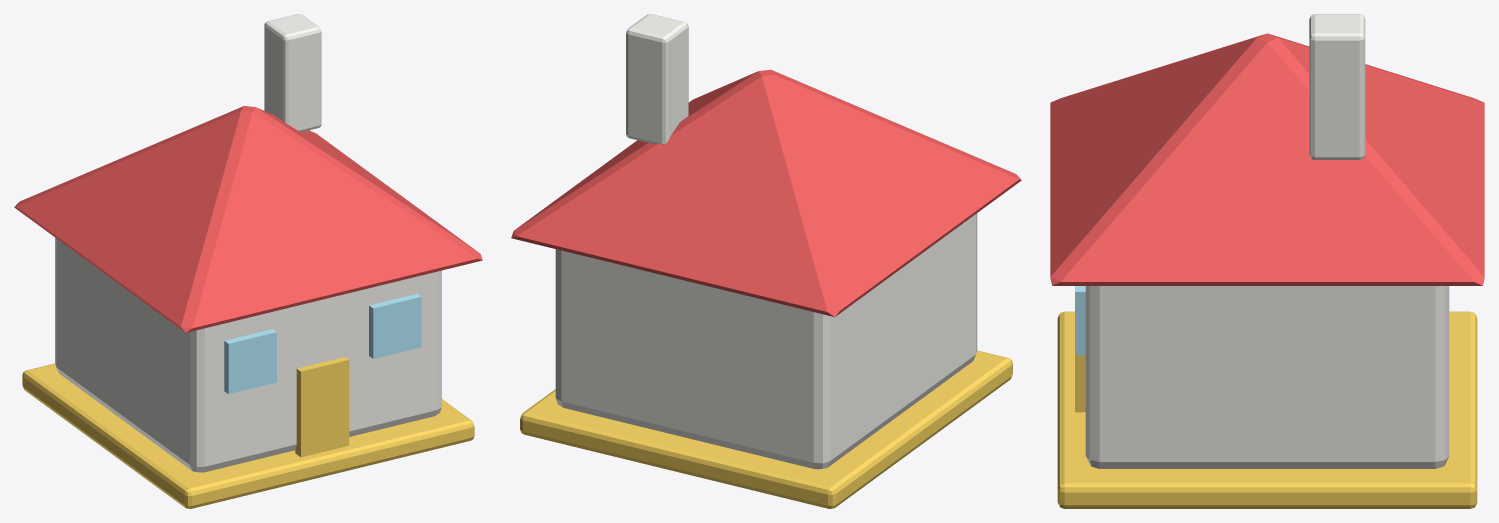
File: Building_Tier1_Villa.fbx
3 renders of one model, left to right at view 1: azimuth 30°, elevation 25°; view 2: azimuth 150°, elevation 25°; view 3: azimuth 270°, elevation 25°, orthographic. The views are drawn at different scales.
Parts seen in each view (by area): view 1: Building_Tier1_Villa; view 2: Building_Tier1_Villa; view 3: Building_Tier1_Villa.
Boxes of the visible parts, left/top/right/bottom form: Building_Tier1_Villa: left=14, top=14, right=482, bottom=508; Building_Tier1_Villa: left=511, top=14, right=1021, bottom=508; Building_Tier1_Villa: left=1050, top=14, right=1484, bottom=508.
Size of the model in its own units: 0.6214 by 0.7 by 0.6214.
